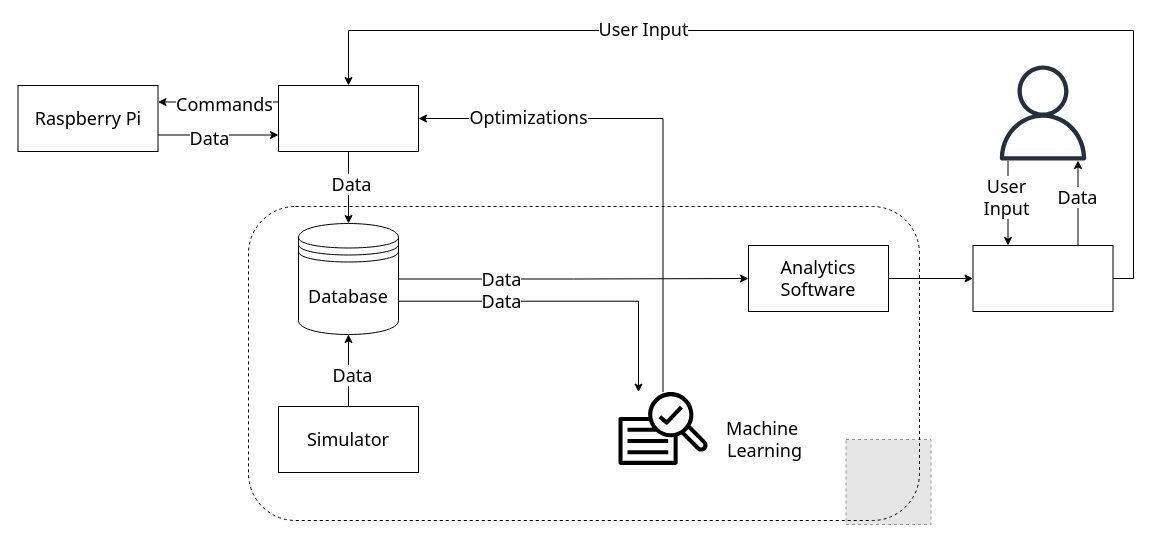
Image size: 1159x542. Some labels were removed from this diagram. Grey dashed boxes stand in for pictures. The centre of each missing label's shape, as x and y in pixels:
"Application" belongs at [1042,278].
"AutoFarmOS" belongs at [348,118].
